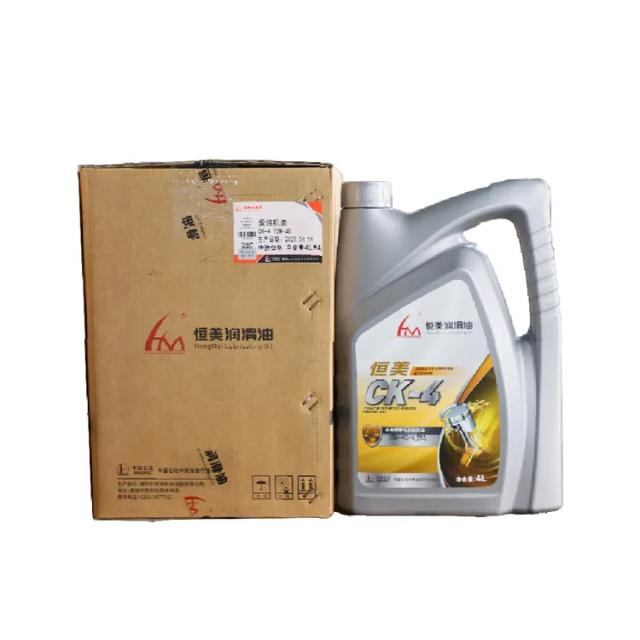motor_oil: (332, 169, 578, 524)
